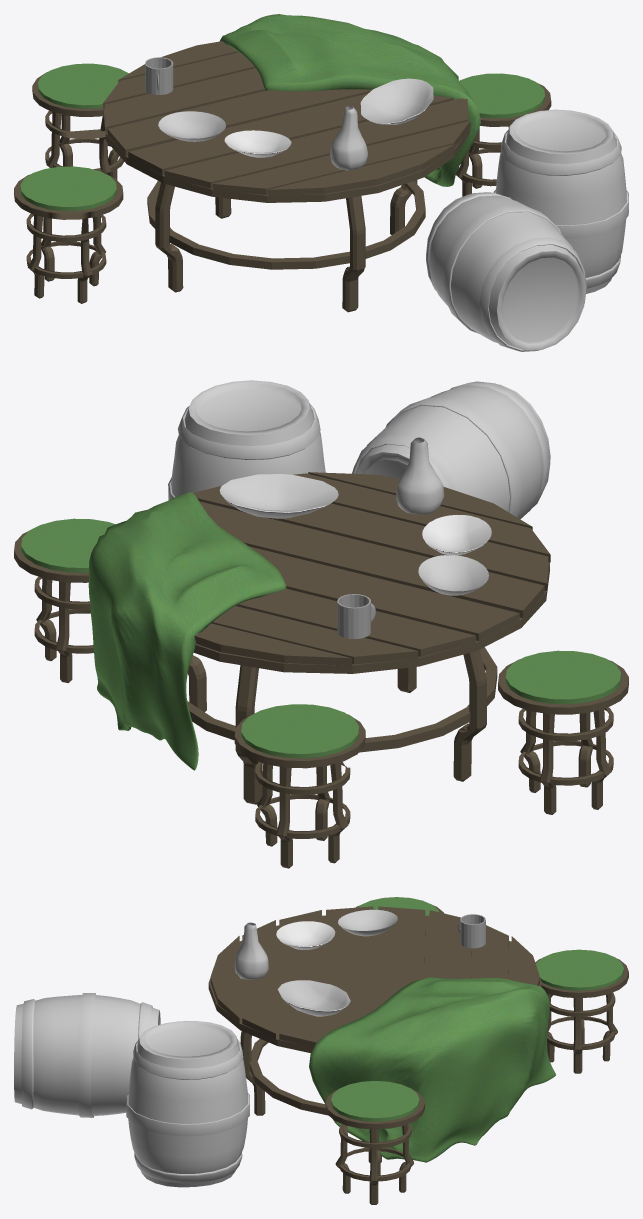
Rendered from tsvern table.fbx.
3 views of the same model, one above another, from view 1: azimuth 30°, elevation 25°; view 2: azimuth 150°, elevation 25°; view 3: azimuth 270°, elevation 25° (orthographic). The views are drawn at different scales.
Parts seen in each view (by area): view 1: pCylinder6, polySurface1, polySurface2, polySurface3, pCube19, pCube16, pCube18, pCube17, polySurface6, polySurface5, polySurface7, polySurface4 (+1 smaller); view 2: pCylinder6, polySurface3, pCube19, polySurface1, polySurface2, pCube18, pCube16, polySurface6, pCube17, polySurface7, polySurface5, polySurface4 (+1 smaller); view 3: polySurface3, pCylinder6, polySurface2, polySurface1, pCube19, pCube17, pCube18, polySurface6, polySurface7, polySurface4, polySurface5, pSphere2 (+1 smaller).
Part boxes in pixels (left/top/right/bottom): pCylinder6: left=103, top=41, right=470, bottom=312; polySurface1: left=426, top=192, right=586, bottom=351; polySurface2: left=493, top=109, right=628, bottom=293; polySurface3: left=219, top=14, right=480, bottom=186; pCube19: left=14, top=72, right=551, bottom=303; pCube16: left=20, top=166, right=116, bottom=210; pCube18: left=38, top=63, right=128, bottom=108; pCube17: left=459, top=73, right=544, bottom=118; polySurface6: left=360, top=78, right=433, bottom=124; polySurface5: left=158, top=111, right=225, bottom=141; polySurface7: left=330, top=106, right=368, bottom=170; polySurface4: left=224, top=130, right=291, bottom=157; pCylinder6: left=187, top=472, right=550, bottom=804; polySurface3: left=88, top=492, right=286, bottom=770; pCube19: left=14, top=531, right=628, bottom=868; polySurface1: left=352, top=381, right=550, bottom=519; polySurface2: left=168, top=380, right=325, bottom=500; pCube18: left=241, top=704, right=359, bottom=758; pCube16: left=506, top=650, right=621, bottom=704; polySurface6: left=219, top=474, right=338, bottom=518; pCube17: left=21, top=518, right=115, bottom=572; polySurface7: left=396, top=437, right=444, bottom=514; polySurface5: left=418, top=555, right=489, bottom=595; polySurface4: left=422, top=515, right=491, bottom=555; polySurface3: left=309, top=977, right=555, bottom=1162; pCylinder6: left=208, top=906, right=541, bottom=1162; polySurface2: left=126, top=1021, right=249, bottom=1187; polySurface1: left=14, top=993, right=160, bottom=1117; pCube19: left=325, top=905, right=628, bottom=1204; pCube17: left=331, top=1081, right=419, bottom=1121; pCube18: left=536, top=949, right=623, bottom=990; polySurface6: left=277, top=980, right=350, bottom=1016; polySurface7: left=234, top=922, right=268, bottom=979; polySurface4: left=276, top=921, right=335, bottom=949; polySurface5: left=338, top=909, right=397, bottom=936; pSphere2: left=457, top=914, right=485, bottom=948.
Bounding box in the file's own units: 6.96 × 2.7 × 8.01.
